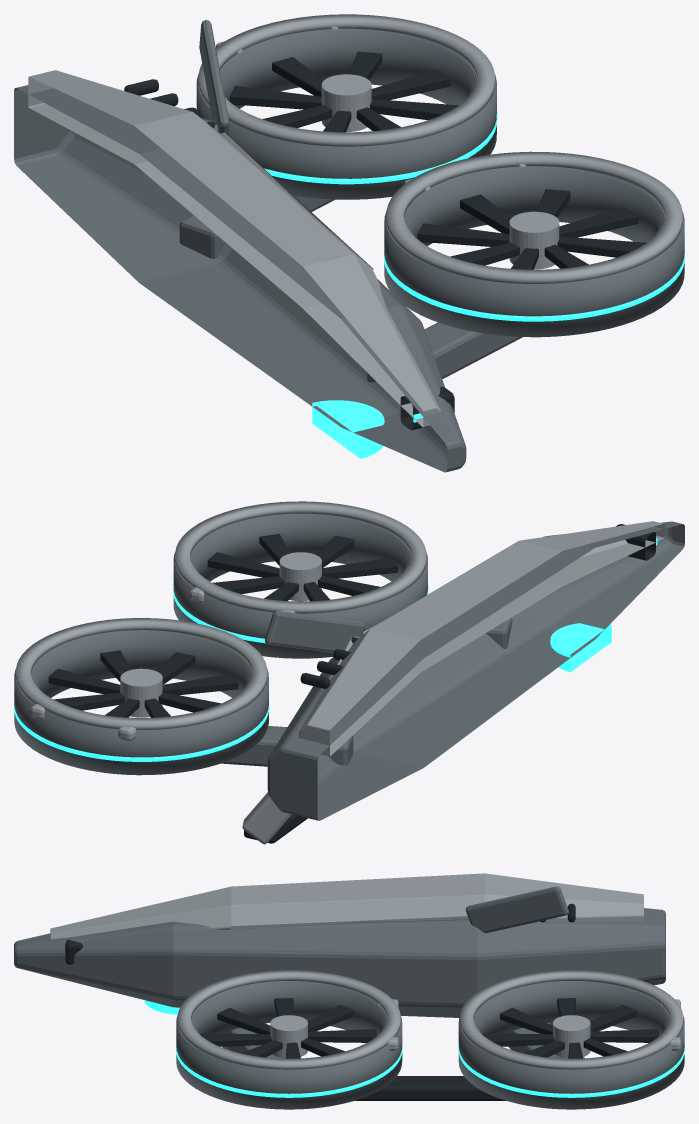
File: scout-proposal.glb
3 views of the same model, one above another, from view 1: azimuth 30°, elevation 25°; view 2: azimuth 150°, elevation 25°; view 3: azimuth 270°, elevation 25° (orthographic). The views are drawn at different scales.
Visible parts, largest first — view 1: Keel, Dorsal_Shell, Duct_0, Duct_1, Duct_Lip_0, Duct_Lip_1, Load_Boom_0, Sensor_Lens, Rotor_Hub_0, Rotor_Hub_1, Duct_Link_0, Sensor_Fin (+12 smaller); view 2: Keel, Duct_1, Dorsal_Shell, Duct_0, Duct_Lip_0, Duct_Lip_1, Sensor_Fin, Sensor_Lens, Load_Boom_1, Rotor_Hub_1, Rotor_Hub_0, Duct_Link_1 (+14 smaller); view 3: Keel, Dorsal_Shell, Duct_0, Duct_1, Duct_Lip_0, Duct_Lip_1, Sensor_Fin, Skid, Rotor_Hub_1, Rotor_Hub_0, Duct_Link_0, Duct_Link_1 (+12 smaller).
Boxes of the visible parts, x1=… form: Keel: x1=14, y1=85, x2=466, y2=472; Dorsal_Shell: x1=28, y1=70, x2=440, y2=427; Duct_0: x1=384, y1=166, x2=684, y2=337; Duct_1: x1=196, y1=28, x2=496, y2=199; Duct_Lip_0: x1=386, y1=151, x2=682, y2=283; Duct_Lip_1: x1=198, y1=14, x2=494, y2=146; Load_Boom_0: x1=367, y1=322, x2=522, y2=382; Sensor_Lens: x1=312, y1=400, x2=384, y2=458; Rotor_Hub_0: x1=509, y1=211, x2=559, y2=269; Rotor_Hub_1: x1=321, y1=74, x2=371, y2=131; Duct_Link_0: x1=384, y1=250, x2=684, y2=321; Sensor_Fin: x1=199, y1=20, x2=229, y2=135; Keel: x1=267, y1=521, x2=684, y2=820; Duct_1: x1=14, y1=630, x2=268, y2=775; Dorsal_Shell: x1=299, y1=521, x2=664, y2=756; Duct_0: x1=173, y1=513, x2=427, y2=658; Duct_Lip_0: x1=175, y1=501, x2=426, y2=613; Duct_Lip_1: x1=16, y1=618, x2=267, y2=729; Sensor_Fin: x1=265, y1=611, x2=365, y2=653; Sensor_Lens: x1=550, y1=623, x2=611, y2=672; Load_Boom_1: x1=221, y1=726, x2=353, y2=766; Rotor_Hub_1: x1=120, y1=668, x2=162, y2=717; Rotor_Hub_0: x1=279, y1=552, x2=321, y2=601; Duct_Link_1: x1=14, y1=701, x2=269, y2=761; Keel: x1=14, y1=908, x2=665, y2=1017; Dorsal_Shell: x1=50, y1=873, x2=643, y2=939; Duct_0: x1=176, y1=981, x2=402, y2=1109; Duct_1: x1=458, y1=981, x2=684, y2=1109; Duct_Lip_0: x1=177, y1=970, x2=400, y2=1069; Duct_Lip_1: x1=460, y1=970, x2=683, y2=1069; Sensor_Fin: x1=465, y1=886, x2=568, y2=932; Skid: x1=354, y1=1076, x2=506, y2=1100; Rotor_Hub_1: x1=553, y1=1015, x2=590, y2=1058; Rotor_Hub_0: x1=270, y1=1015, x2=307, y2=1058; Duct_Link_0: x1=176, y1=1044, x2=402, y2=1097; Duct_Link_1: x1=458, y1=1045, x2=684, y2=1097.
Size of the model in its own units: 2.4 by 1.55 by 4.63.
